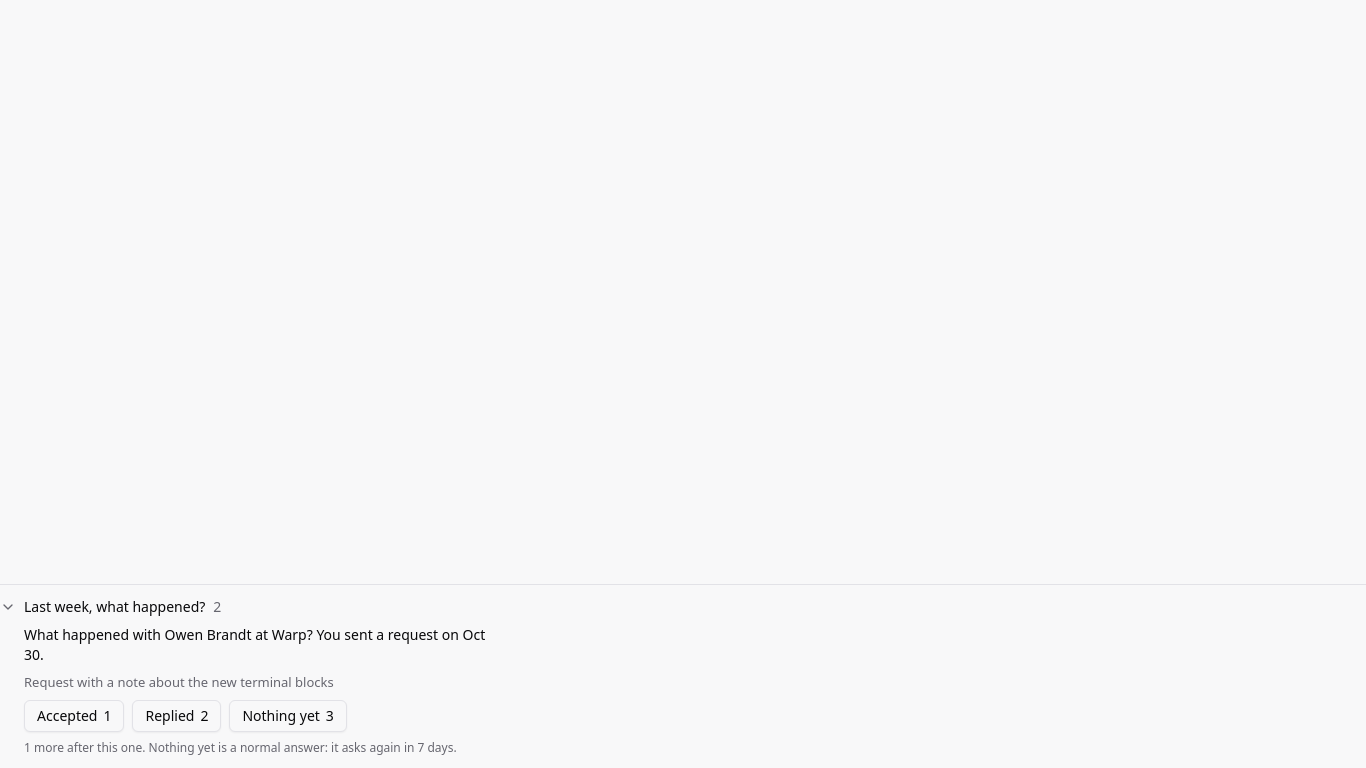
it: OutcomePrompt › 2 opens the reply dialog, and Interested logs replied with kind interested
This screenshot has width=1366, height=768.
(page scrolled)
Check: the element "Last week, what happened" is shown, box [0,584,1365,767]
Press 2
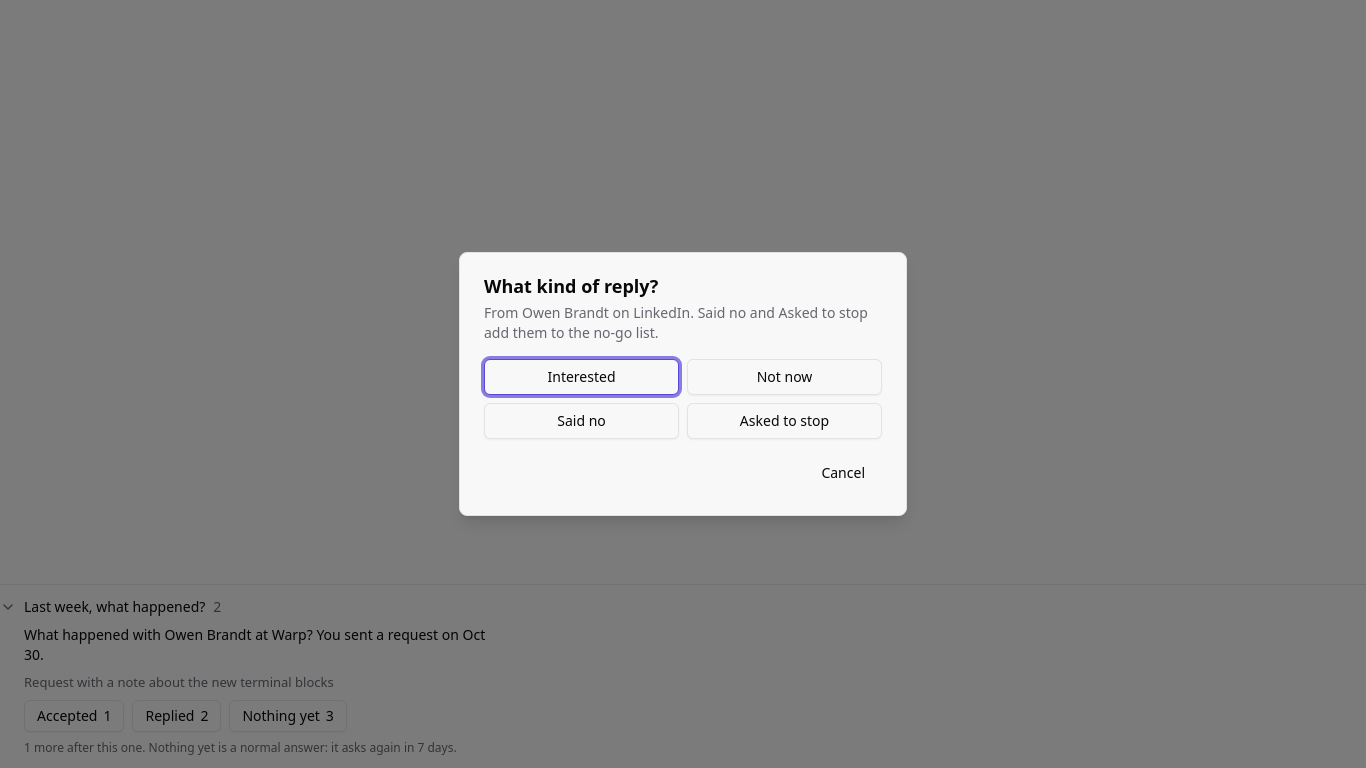
Check: the dialog "What kind of reply?" shows "From Owen Brandt on LinkedIn.", box [484,303,868,342]
Click the button "Interested" at (582, 377), box [484,359,679,395]
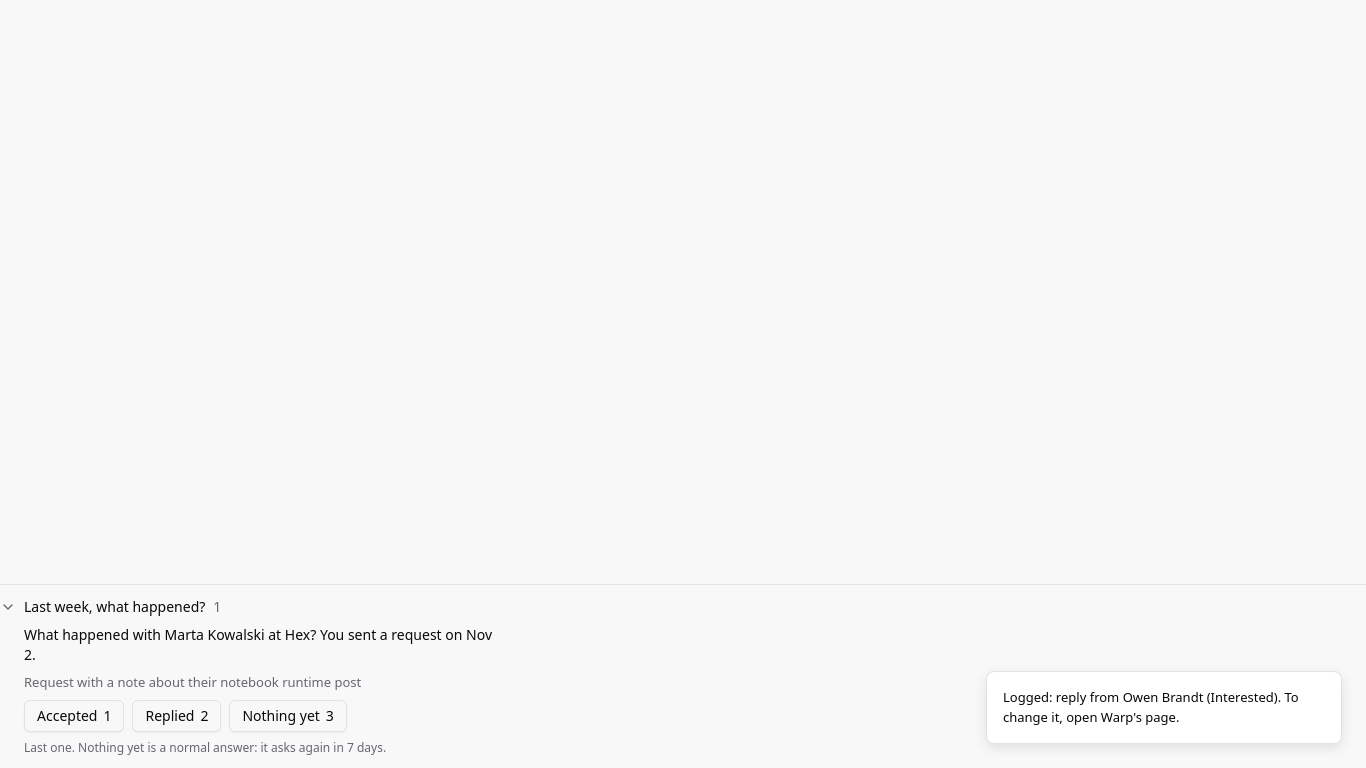
Check: the dialog is gone
Check: the text with test id "question" reads "What happened with Marta Kowalski at Hex? You sent a request on Nov 2.", box [24,625,492,664]
